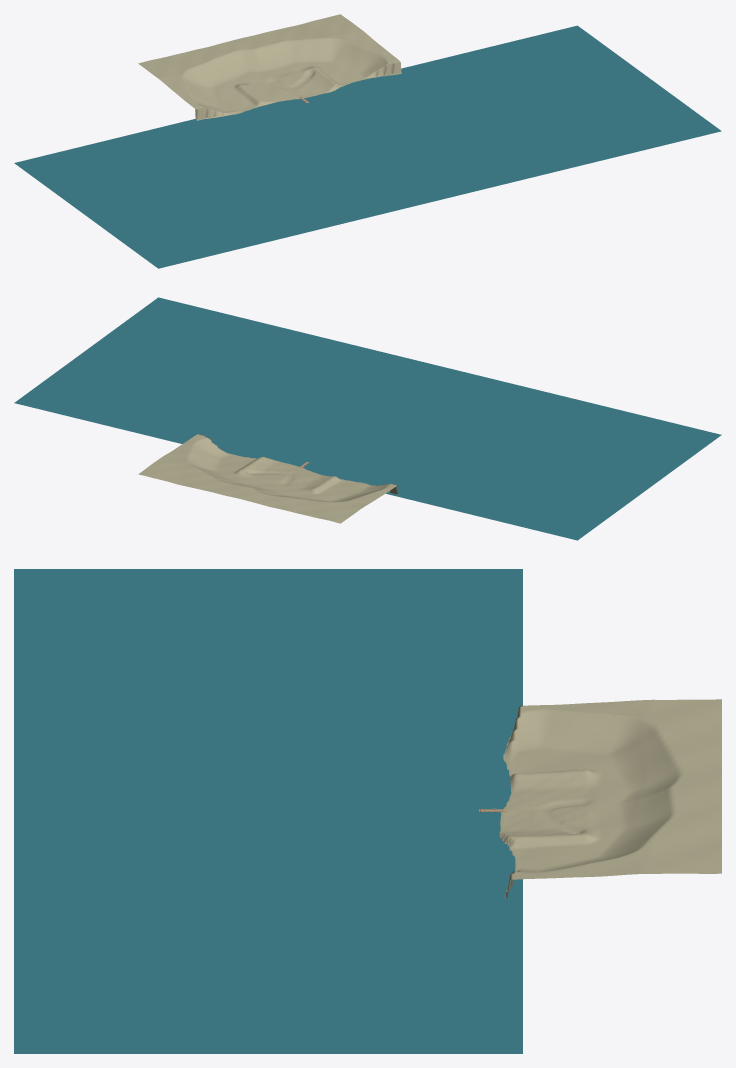
File: costa_lago.glb
3 renders of one model, top to bottom at view 1: azimuth 30°, elevation 25°; view 2: azimuth 150°, elevation 25°; view 3: azimuth 270°, elevation 25°, orthographic. The views are drawn at different scales.
Visible parts, largest first — view 1: Lago_agua, Terreno; view 2: Lago_agua, Terreno; view 3: Lago_agua, Terreno.
Boxes of the visible parts, box(x1,y1,x2,y2) form: Lago_agua: box(14, 25, 721, 268); Terreno: box(138, 14, 401, 120); Lago_agua: box(14, 297, 721, 540); Terreno: box(138, 434, 398, 523); Lago_agua: box(14, 569, 522, 1053); Terreno: box(499, 699, 721, 898).
Size of the model in its own units: 640 by 18.45 by 395.
